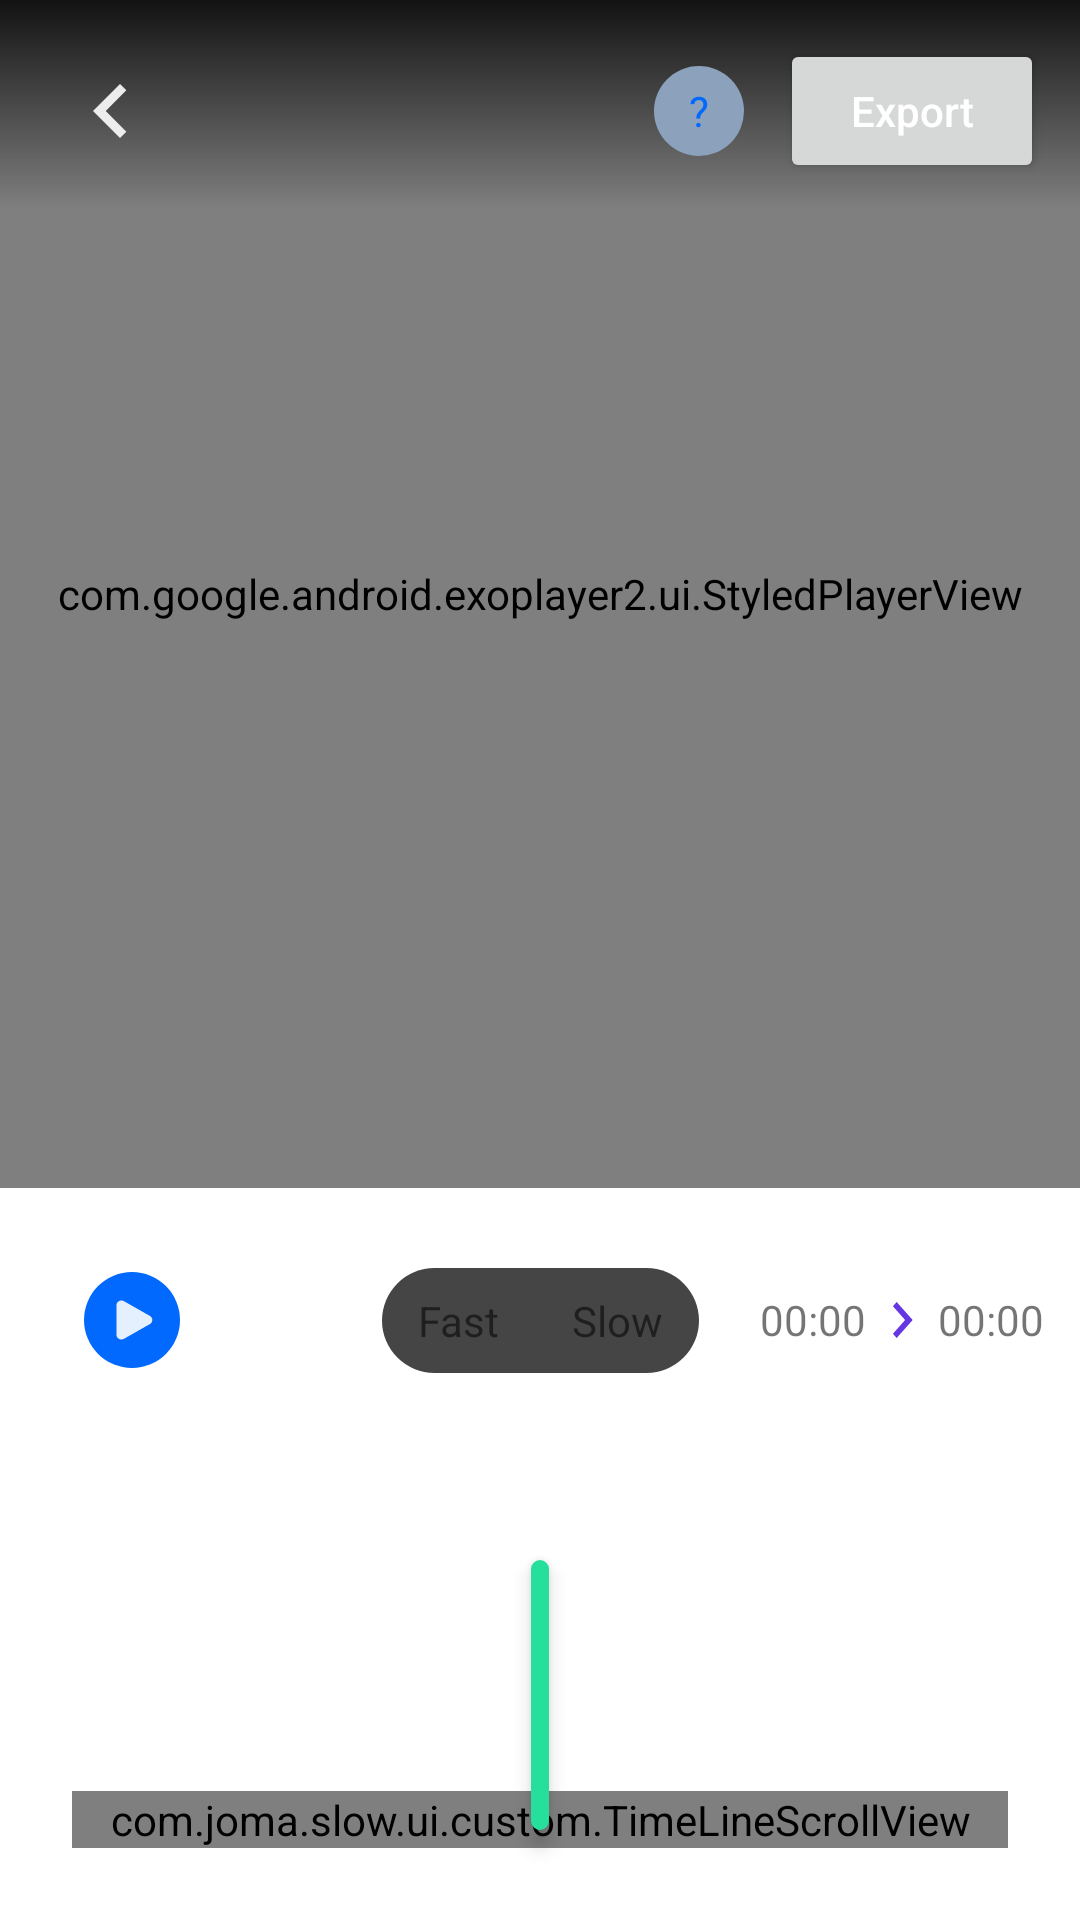

Where icons sit on this 1080px x 1920px app screen, as [x1, y1, x2, y2]:
arrow right: [893, 1302, 913, 1338]
